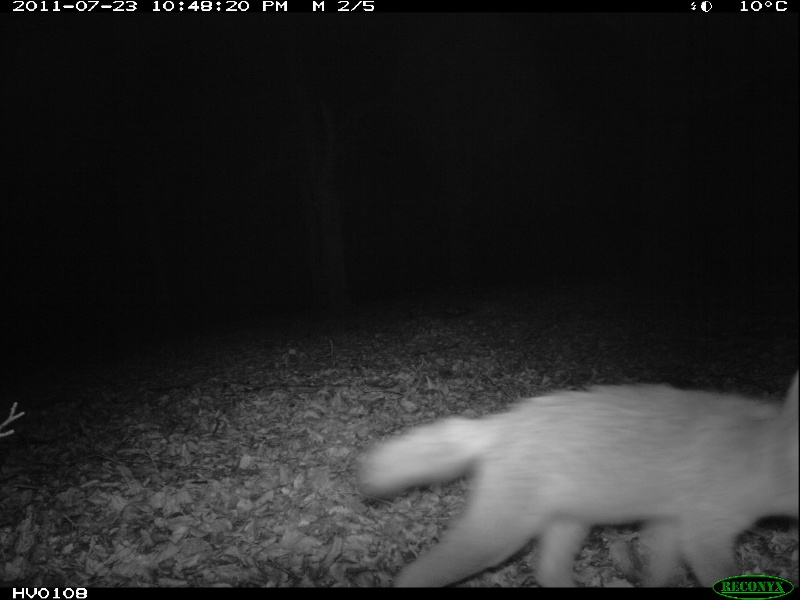fox: (352, 367, 800, 567)
